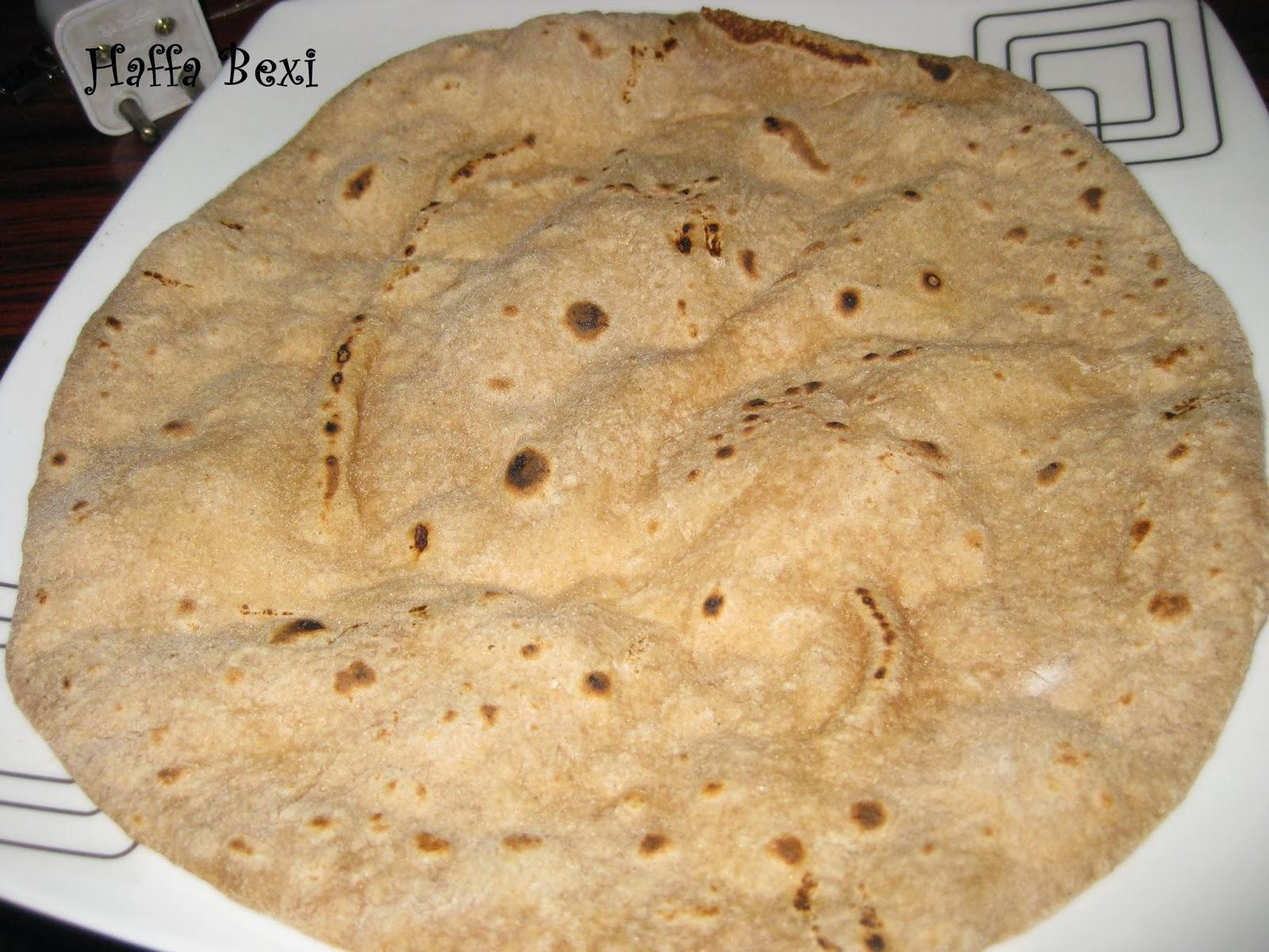roti: (4, 9, 1269, 952)
